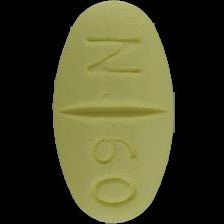68382-651: (0, 0, 224, 224)
